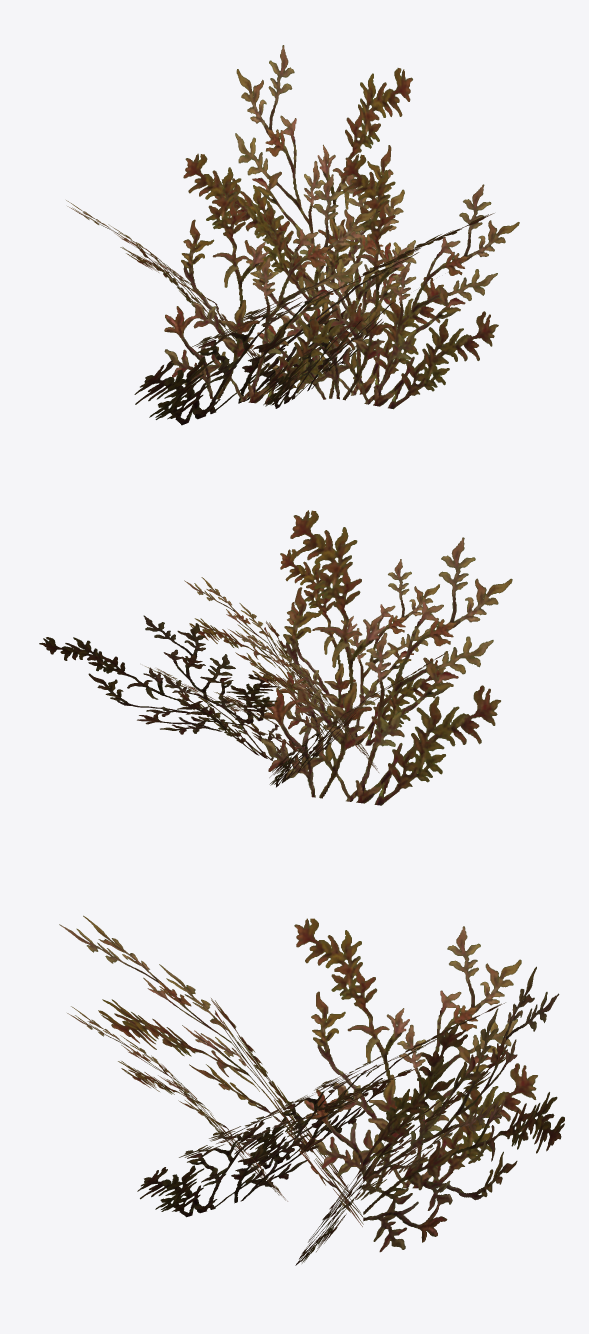
File: SM_EN_2006_zhiwu04.FBX
The picture shows the model from 3 angles, top to bottom: view 1: azimuth 30°, elevation 25°; view 2: azimuth 150°, elevation 25°; view 3: azimuth 270°, elevation 25°; orthographic projection. The views are drawn at different scales.
Parts seen in each view (by area): view 1: SM_EN_2006_zhiwu04; view 2: SM_EN_2006_zhiwu04; view 3: SM_EN_2006_zhiwu04.
Part boxes in pixels (x1,y1,x2,y2): SM_EN_2006_zhiwu04: (66, 45, 519, 425); SM_EN_2006_zhiwu04: (39, 510, 512, 805); SM_EN_2006_zhiwu04: (59, 915, 564, 1265).
Bounding box in the file's own units: 272 × 158 × 231.
